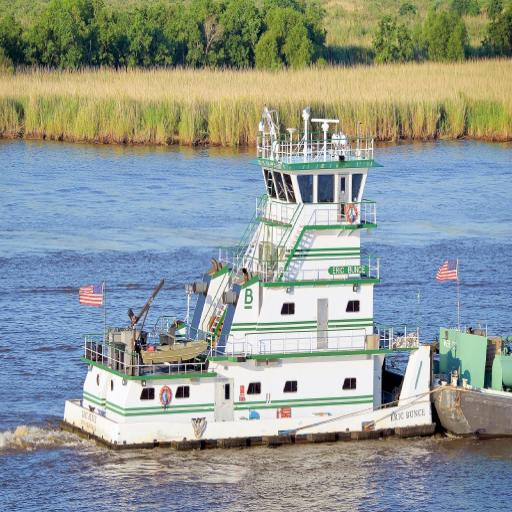tugboat: (59, 101, 443, 464)
